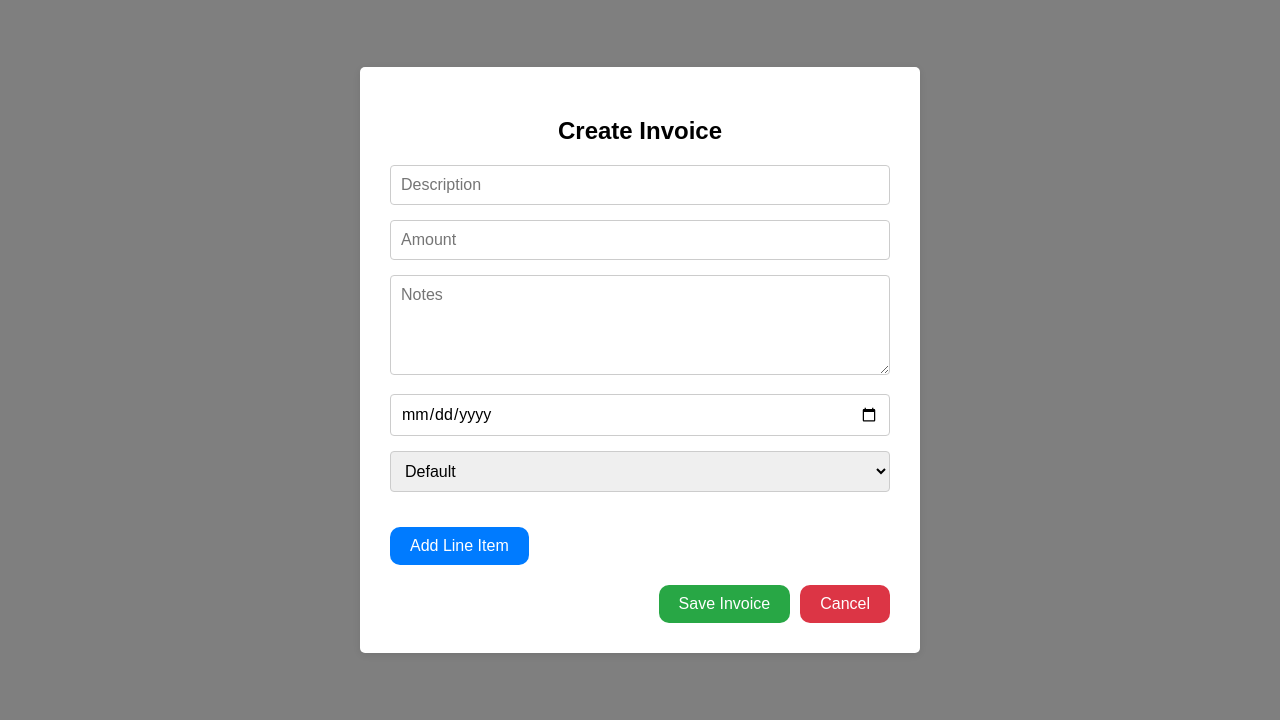
InvoiceFormModal › shows error message when validation fails
The width and height of the screenshot is (1280, 720).
What coordinates should you click on to do the following:
click the button "Save Invoice"
I would click on:
 (724, 604)
Its box is x1=659 y1=585 x2=790 y2=623.
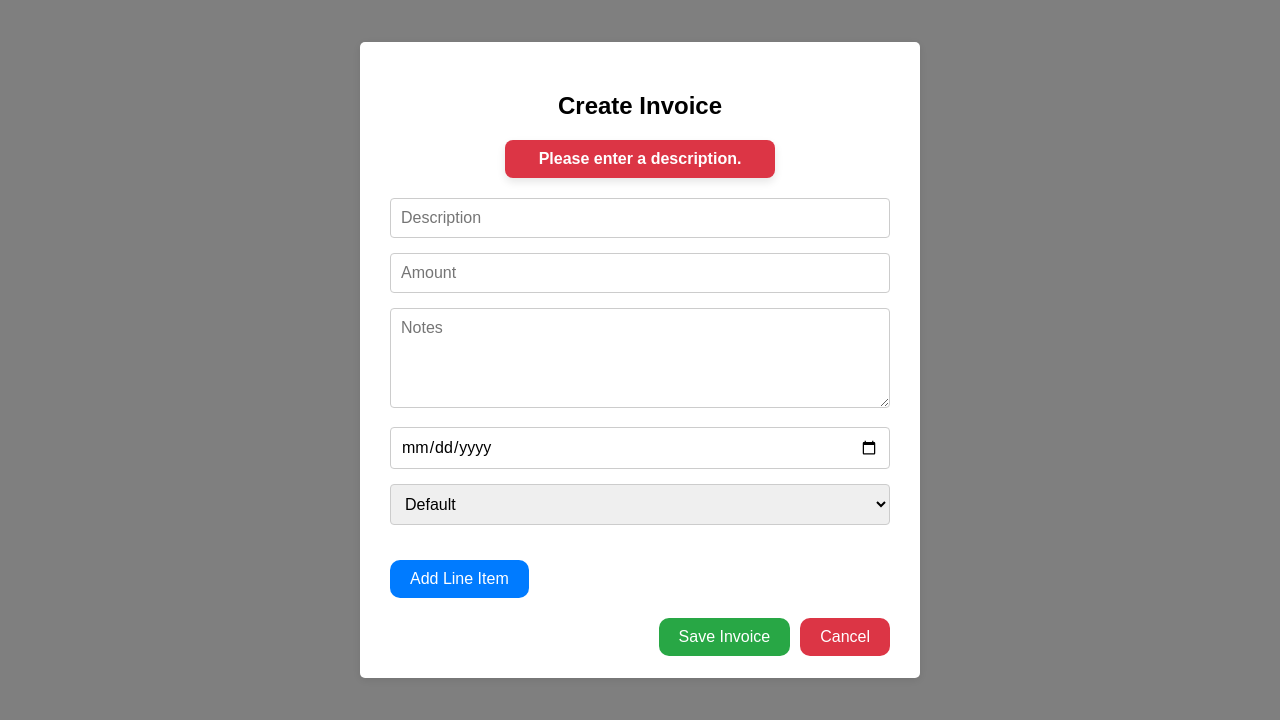
Expected: the text "Please enter a description." is shown, x1=505 y1=140 x2=775 y2=178
